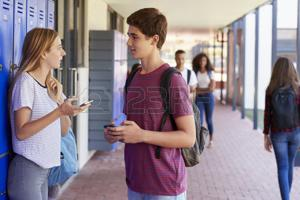person: (114, 9, 193, 138), (15, 27, 76, 142)
